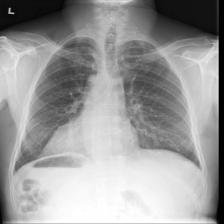normal: (8, 31, 210, 185)
